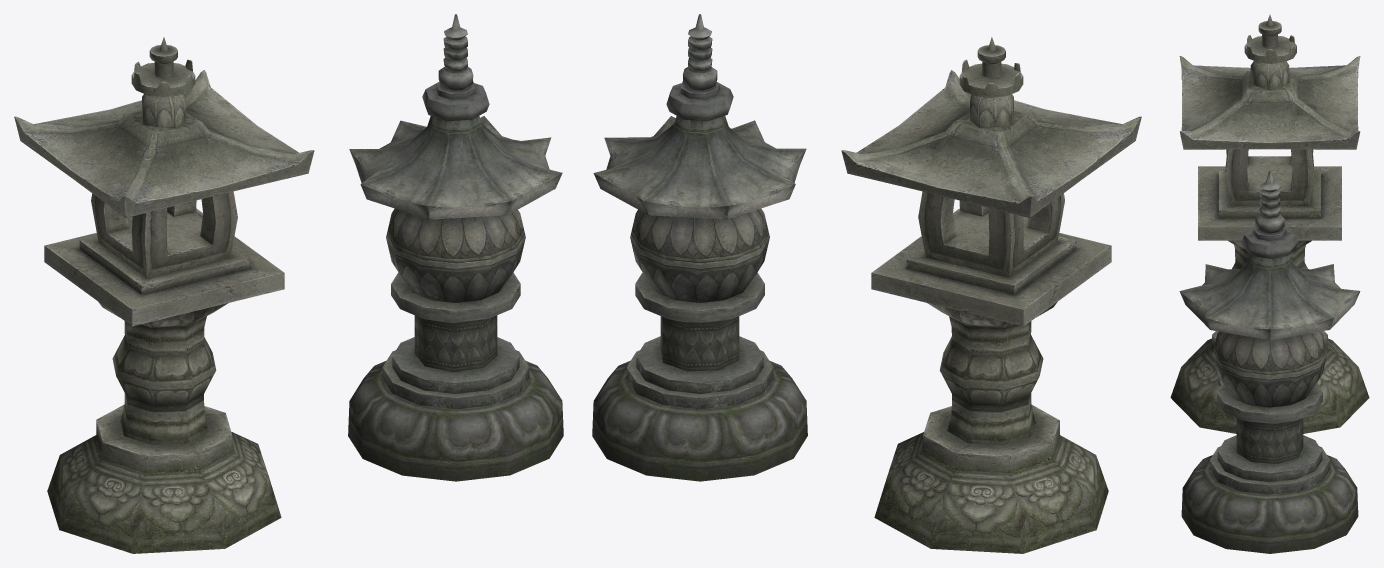
3 renders of one model, left to right at view 1: azimuth 30°, elevation 25°; view 2: azimuth 150°, elevation 25°; view 3: azimuth 270°, elevation 25°, orthographic. The views are drawn at different scales.
Visible parts, largest first — view 1: shideng01, shideng02; view 2: shideng01, shideng02; view 3: shideng02, shideng01.
Part boxes in pixels (box(x1,y1,x2,y2)): shideng01: box(14, 37, 314, 553); shideng02: box(348, 14, 563, 481); shideng01: box(841, 37, 1141, 553); shideng02: box(592, 14, 807, 481); shideng02: box(1179, 170, 1360, 553); shideng01: box(1170, 14, 1369, 433).
Bounding box in the file's own units: 3.17 × 2.9 × 1.35.
